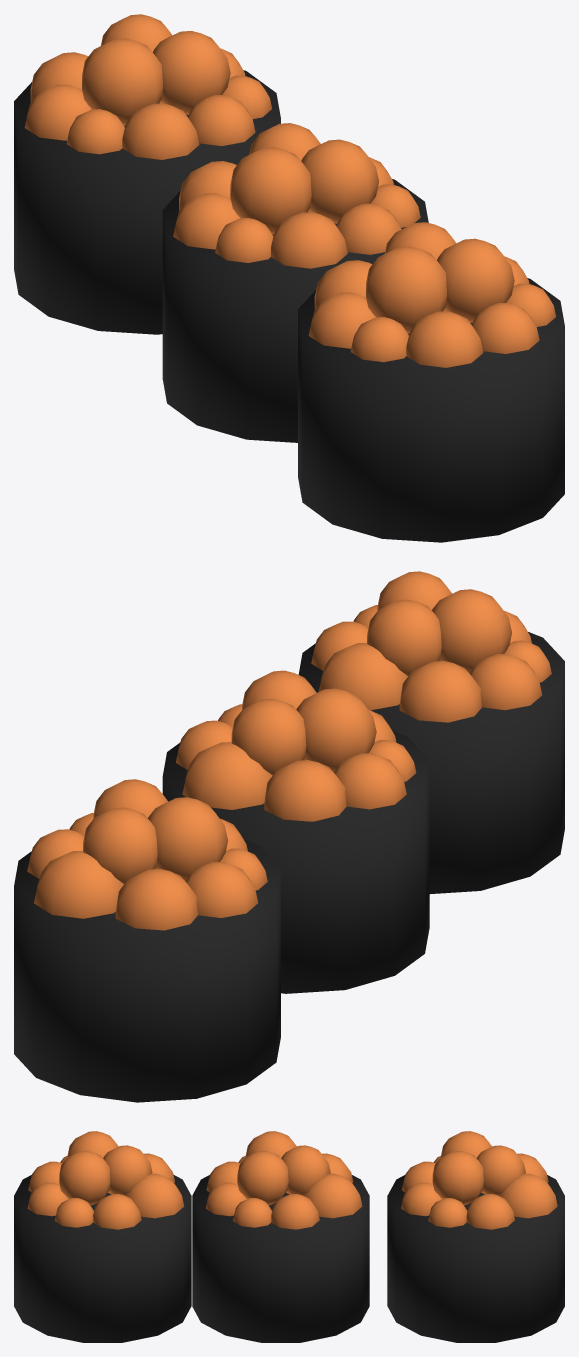
Rendered from Food_SeaUrchinRoll.glb.
3 renders of one model, top to bottom at view 1: azimuth 30°, elevation 25°; view 2: azimuth 150°, elevation 25°; view 3: azimuth 270°, elevation 25°, orthographic. The views are drawn at different scales.
Parts seen in each view (by area): view 1: Food_SeaUrchinRoll.002, Food_SeaUrchinRoll.001, Food_SeaUrchinRoll; view 2: Food_SeaUrchinRoll.001, Food_SeaUrchinRoll, Food_SeaUrchinRoll.002; view 3: Food_SeaUrchinRoll.001, Food_SeaUrchinRoll, Food_SeaUrchinRoll.002.
Boxes of the visible parts, x1,y1,x2,y2 form: Food_SeaUrchinRoll.002: (298,222,564,542); Food_SeaUrchinRoll.001: (14,14,280,334); Food_SeaUrchinRoll: (162,123,428,442); Food_SeaUrchinRoll.001: (14,779,280,1102); Food_SeaUrchinRoll: (162,670,429,993); Food_SeaUrchinRoll.002: (298,571,564,893); Food_SeaUrchinRoll.001: (387,1131,564,1342); Food_SeaUrchinRoll: (192,1131,369,1342); Food_SeaUrchinRoll.002: (14,1131,191,1342).
Bounding box in the file's own units: 0.4928 × 0.5114 × 1.57.
Materials: 3 (3 with a texture image).
